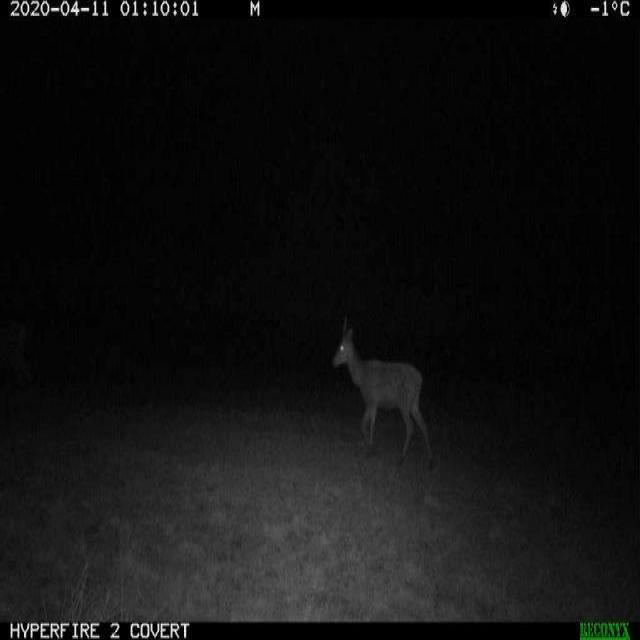deer: (322, 313, 429, 475)
